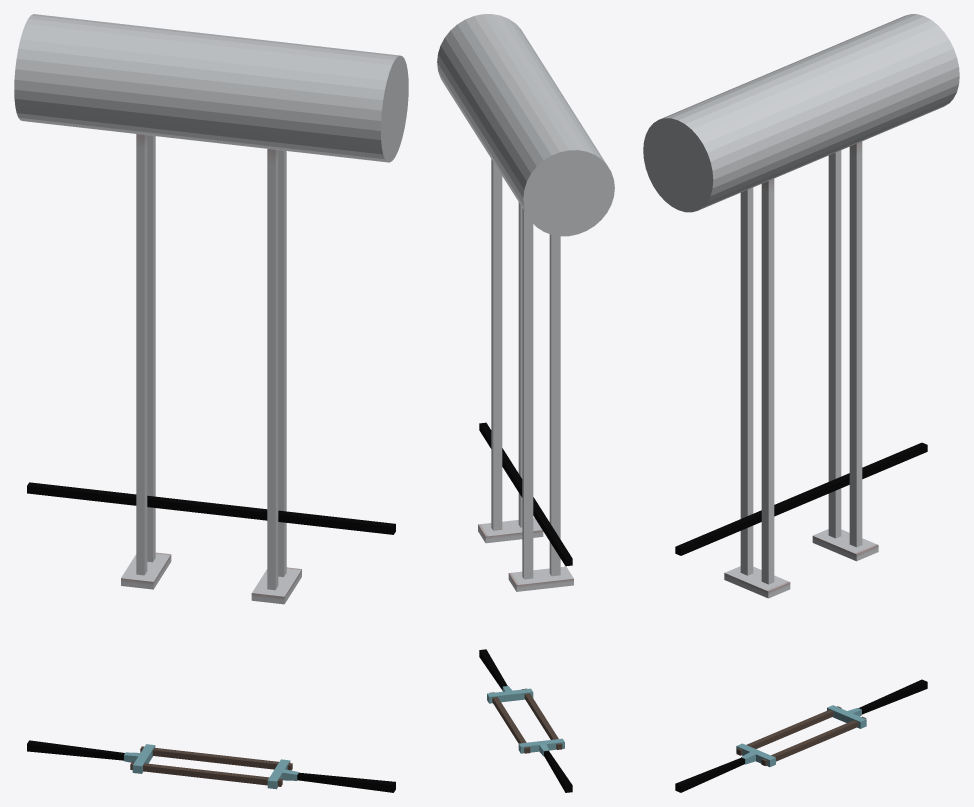
The model's file is 45d_moretop_expand-rigid.obj.
The picture shows the model from 3 angles, left to right: view 1: azimuth 30°, elevation 25°; view 2: azimuth 150°, elevation 25°; view 3: azimuth 270°, elevation 25°; orthographic projection. The views are drawn at different scales.
Visible parts, largest first — view 1: moretop_1.001; view 2: moretop_1.001; view 3: moretop_1.001.
Part boxes in pixels (bbox=[...]): moretop_1.001: bbox=[14, 14, 408, 792]; moretop_1.001: bbox=[437, 14, 614, 792]; moretop_1.001: bbox=[643, 14, 959, 792].
Size of the model in its own units: 1.27 by 2.98 by 1.27.
2 materials, 2 textured.
